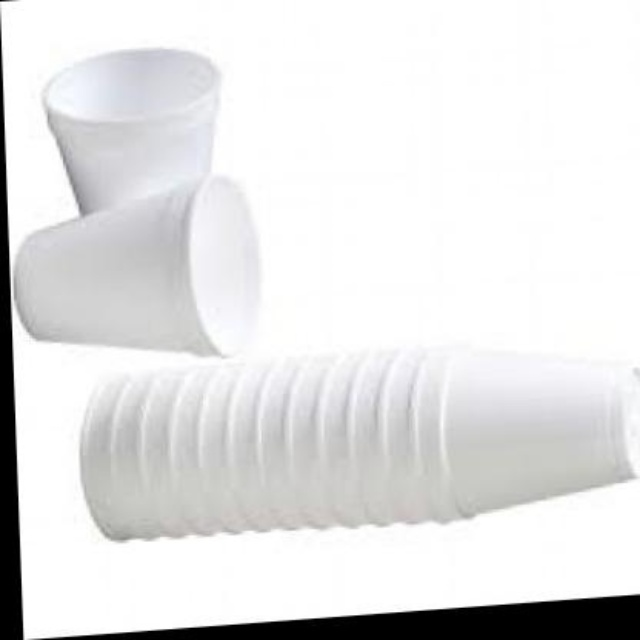trash: (80, 351, 629, 538), (14, 175, 257, 354), (45, 49, 218, 214)
